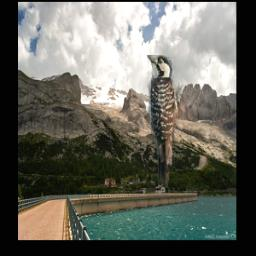Woodpecker: (146, 56, 186, 195)
